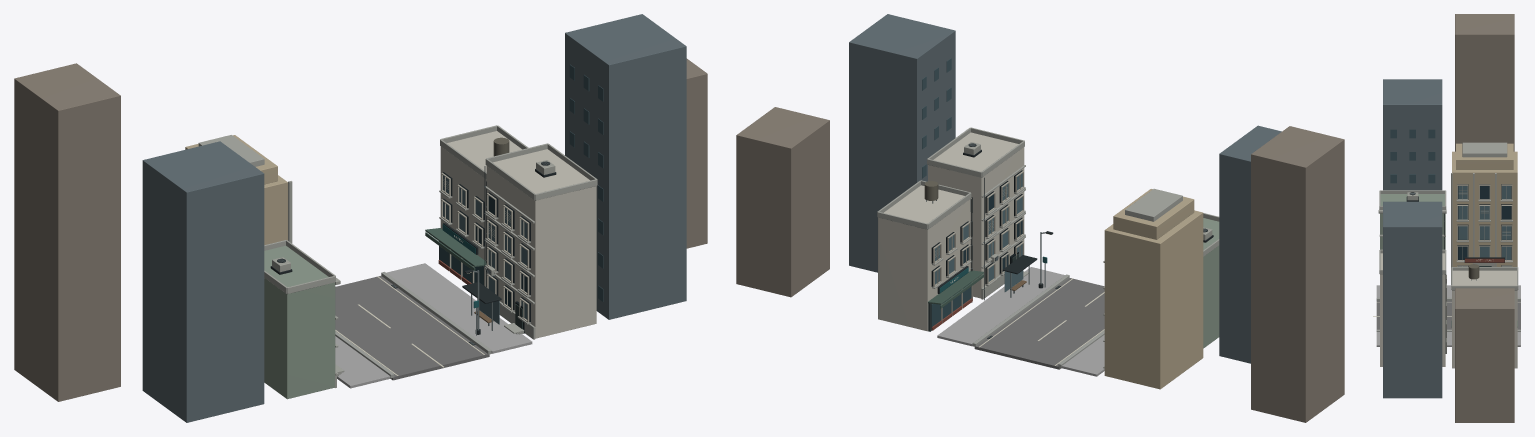
The model's file is city_hd_02.glb.
3 renders of one model, left to right at view 1: azimuth 30°, elevation 25°; view 2: azimuth 150°, elevation 25°; view 3: azimuth 270°, elevation 25°, orthographic. The views are drawn at different scales.
Parts seen in each view (by area): view 1: CITY_distant_2, CITY_distant_3, CITY_storefront, Narrow townhouse volume, CITY_PBR_asphalt, CITY_trim, CITY_PBR_pavement, CITY_frame, CITY_wall_sand, CITY_glass, CITY_darkmetal, CITY_curb (+3 smaller); view 2: CITY_distant_3, CITY_distant_2, CITY_wall_sand, CITY_storefront, CITY_PBR_asphalt, CITY_trim, CITY_PBR_pavement, CITY_frame, Narrow townhouse volume, CITY_glass, CITY_darkmetal, CITY_recess (+4 smaller); view 3: CITY_distant_2, CITY_distant_3, CITY_wall_sand, CITY_trim, CITY_storefront, CITY_glass, CITY_frame, Narrow townhouse volume, CITY_distant_window, CITY_recess, CITY_glass_dark, CITY_PBR_asphalt (+4 smaller).
Part boxes in pixels (x1,y1,x2,y2): CITY_distant_2: (142, 14, 686, 422); CITY_distant_3: (14, 58, 707, 401); CITY_storefront: (440, 131, 596, 338); Narrow townhouse volume: (264, 245, 335, 399); CITY_PBR_asphalt: (335, 276, 489, 380); CITY_trim: (198, 125, 597, 387); CITY_PBR_pavement: (335, 263, 532, 388); CITY_frame: (441, 172, 529, 322); CITY_wall_sand: (185, 135, 287, 244); CITY_glass: (443, 175, 527, 324); CITY_darkmetal: (270, 161, 556, 345); CITY_curb: (335, 272, 491, 378); CITY_distant_3: (736, 107, 1344, 422); CITY_distant_2: (849, 14, 1281, 363); CITY_wall_sand: (1104, 189, 1203, 389); CITY_storefront: (878, 132, 1024, 331); CITY_PBR_asphalt: (974, 278, 1104, 369); CITY_trim: (877, 127, 1219, 368); CITY_PBR_pavement: (937, 267, 1104, 376); CITY_frame: (933, 171, 1024, 322); Narrow townhouse volume: (1203, 218, 1219, 348); CITY_glass: (935, 173, 1023, 291); CITY_darkmetal: (937, 143, 1213, 338); CITY_recess: (931, 170, 1022, 286); CITY_distant_2: (1383, 79, 1442, 398); CITY_distant_3: (1455, 14, 1514, 422); CITY_wall_sand: (1452, 143, 1517, 266); CITY_trim: (1378, 142, 1518, 289); CITY_storefront: (1380, 253, 1517, 368); CITY_glass: (1458, 186, 1511, 266); CITY_frame: (1446, 184, 1512, 353); Narrow townhouse volume: (1380, 194, 1445, 249); CITY_distant_window: (1390, 129, 1435, 183); CITY_recess: (1445, 184, 1512, 353); CITY_glass_dark: (1458, 186, 1511, 259); CITY_PBR_asphalt: (1376, 301, 1520, 329).
Bounding box in the file's own units: 56 × 24.26 × 16.4.
